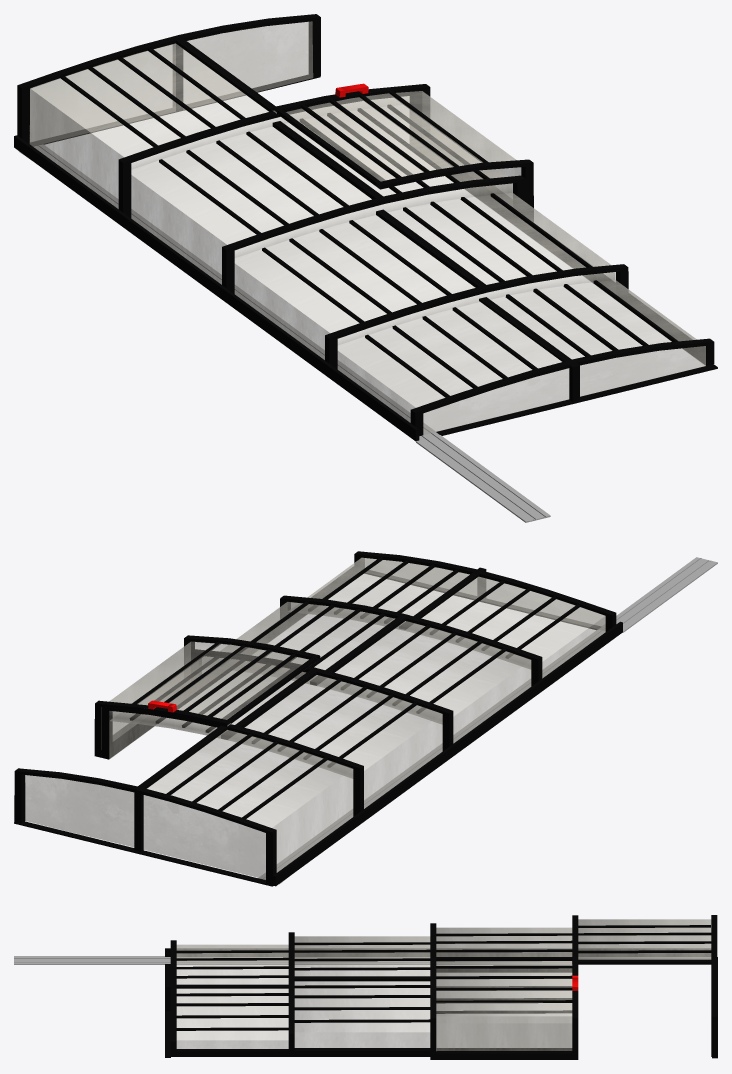
The model's file is rollerCoverBlack.glb.
3 renders of one model, top to bottom at view 1: azimuth 30°, elevation 25°; view 2: azimuth 150°, elevation 25°; view 3: azimuth 270°, elevation 25°, orthographic. The views are drawn at different scales.
Parts seen in each view (by area): view 1: Glass.003, Glass.001, Collar.001, Collar, center, Line003, Line002, Line003.002, Line005, Line003.001, Line001, Support001 (+1 smaller); view 2: Glass.003, Glass.001, Collar.001, Collar, center, Line003.002, Line005, Line003.001, Line002, Line003, Line001, Suppoort002 (+1 smaller); view 3: Glass.003, Glass.001, Collar.001, Line003.002, center, Collar, Line002, Line003, Line005, Line003.001, Line001, Cube.012 (+30 smaller).
Boxes of the visible parts, x1=… form: Glass.003: x1=29, y1=21, x2=705, y2=434; Glass.001: x1=273, y1=91, x2=521, y2=192; Collar.001: x1=18, y1=144, x2=550, y2=522; Collar: x1=14, y1=135, x2=419, y2=441; center: x1=173, y1=38, x2=579, y2=401; Line003: x1=222, y1=175, x2=615, y2=293; Line002: x1=325, y1=264, x2=701, y2=369; Line003.002: x1=272, y1=84, x2=533, y2=221; Line005: x1=17, y1=14, x2=320, y2=143; Line003.001: x1=118, y1=91, x2=512, y2=223; Line001: x1=410, y1=338, x2=714, y2=435; Support001: x1=436, y1=364, x2=717, y2=435; Glass.003: x1=25, y1=557, x2=605, y2=879; Glass.001: x1=101, y1=641, x2=308, y2=749; Collar.001: x1=258, y1=557, x2=717, y2=884; Collar: x1=273, y1=621, x2=622, y2=886; center: x1=134, y1=567, x2=486, y2=851; Line003.002: x1=94, y1=635, x2=320, y2=757; Line005: x1=14, y1=768, x2=276, y2=884; Line003.001: x1=101, y1=707, x2=363, y2=816; Line002: x1=280, y1=566, x2=542, y2=686; Line003: x1=191, y1=621, x2=453, y2=750; Line001: x1=354, y1=551, x2=616, y2=631; Suppoort002: x1=14, y1=821, x2=273, y2=886; Glass.003: x1=176, y1=919, x2=711, y2=1048; Glass.001: x1=436, y1=961, x2=572, y2=1050; Collar.001: x1=14, y1=956, x2=711, y2=964; Line003.002: x1=430, y1=957, x2=578, y2=1059; center: x1=166, y1=959, x2=711, y2=1010; Collar: x1=165, y1=948, x2=710, y2=956; Line002: x1=176, y1=932, x2=294, y2=1056; Line003: x1=294, y1=923, x2=436, y2=1056; Line005: x1=711, y1=915, x2=717, y2=1056; Line003.001: x1=437, y1=915, x2=578, y2=1051; Line001: x1=170, y1=940, x2=176, y2=1056; Cube.012: x1=436, y1=1010, x2=572, y2=1013.
Size of the model in its own units: 1.57 by 0.3871 by 4.47.
5 materials, 1 textured.
